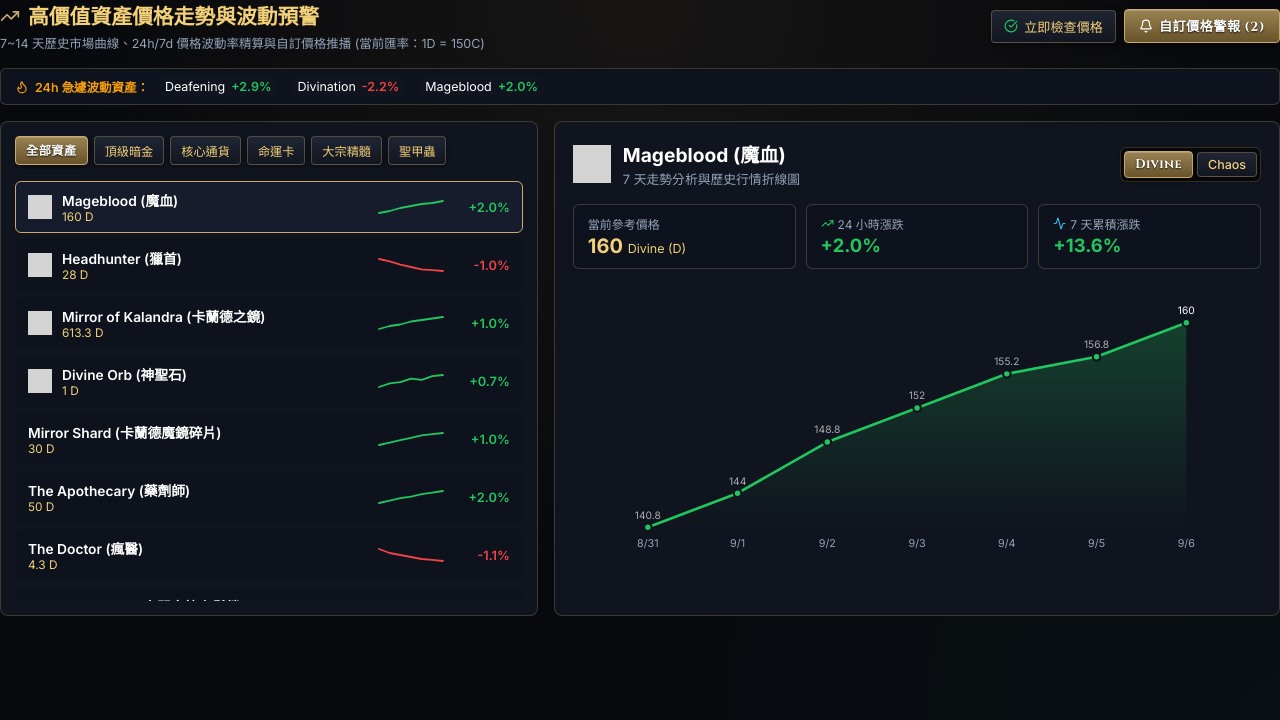
it: PriceTrendHub › allows opening and closing the price alert modal
Click the button "自訂價格警報 (2)": {"x": 1202, "y": 26} [1124, 9, 1279, 43]
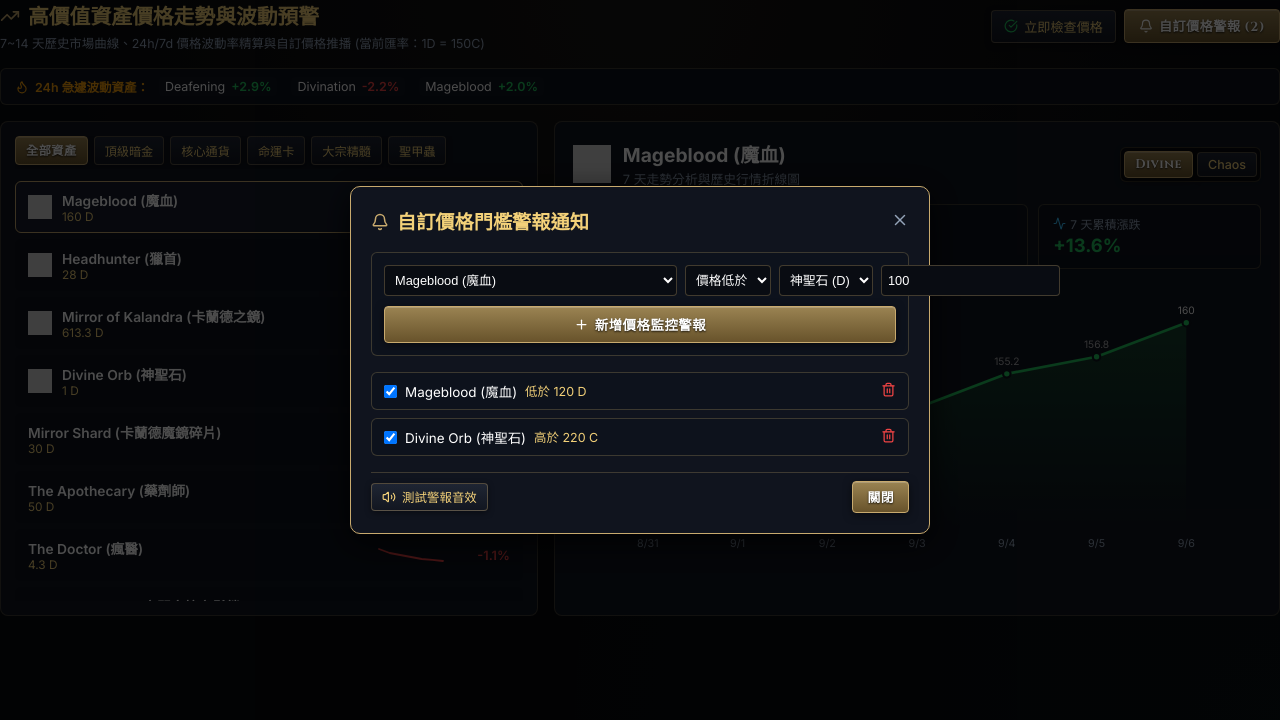
Check: the heading "自訂價格門檻警報通知" is shown, box [371, 207, 589, 236]
Click the button "關閉": {"x": 881, "y": 497} [852, 481, 909, 513]
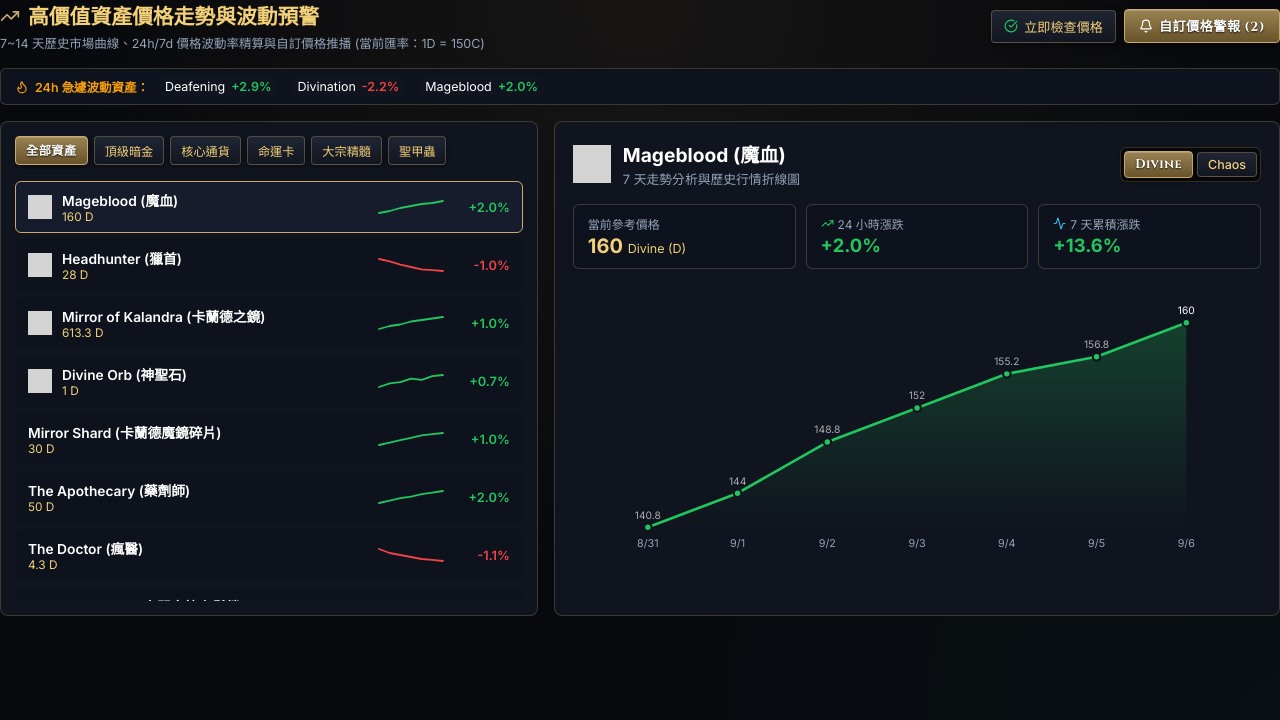
Check: the heading "自訂價格門檻警報通知" is gone
